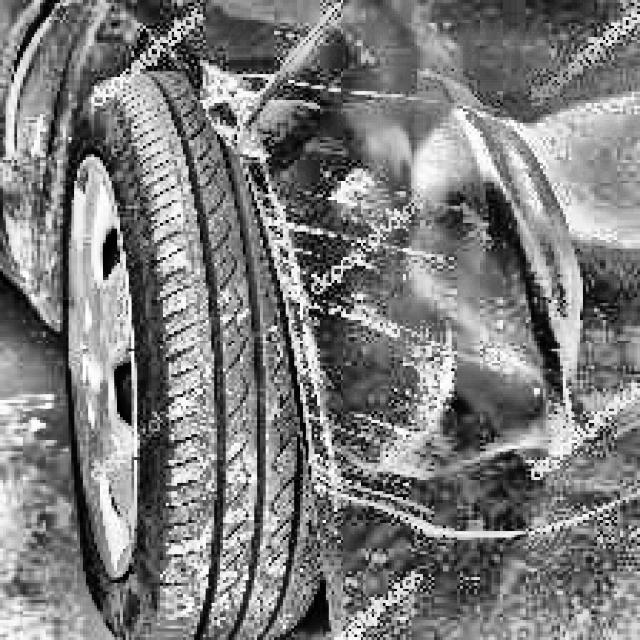bumper_dent: (417, 130, 575, 430)
bumper_scratch: (342, 480, 636, 550), (205, 61, 319, 162), (280, 210, 374, 326)
